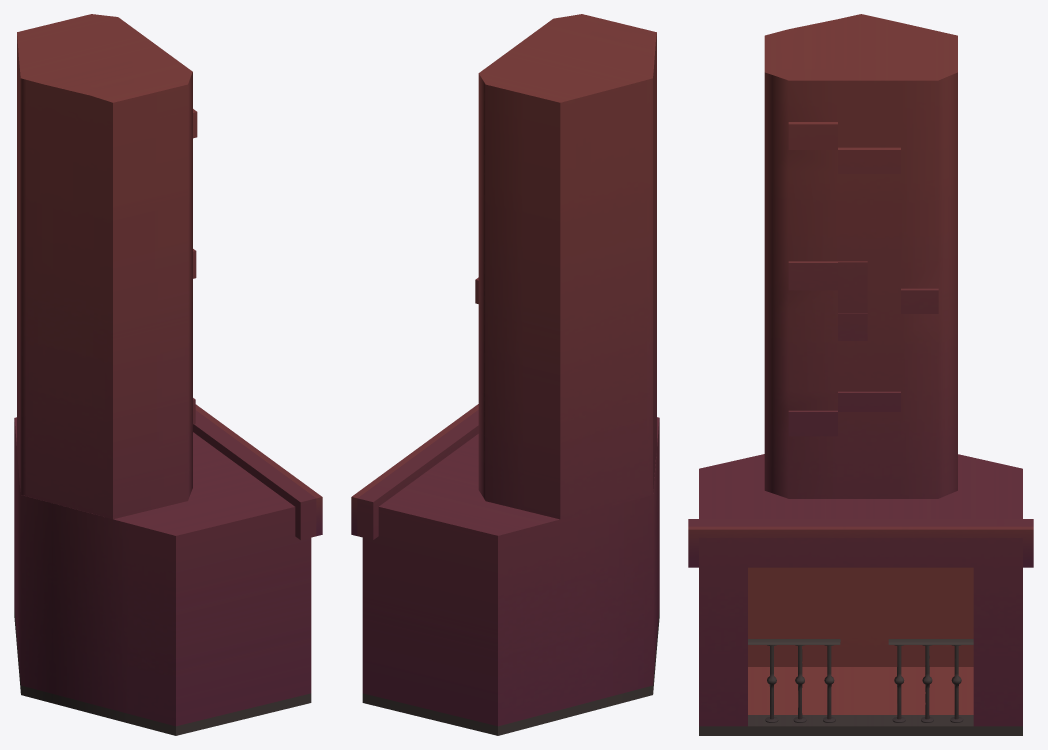
File: fireplace 1.fbx
3 renders of one model, left to right at view 1: azimuth 30°, elevation 25°; view 2: azimuth 150°, elevation 25°; view 3: azimuth 270°, elevation 25°, orthographic.
Visible parts, largest first — view 1: fireplace1; view 2: fireplace1; view 3: fireplace1.
Boxes of the visible parts, x1=… form: fireplace1: x1=14, y1=14, x2=322, y2=735; fireplace1: x1=351, y1=14, x2=659, y2=735; fireplace1: x1=688, y1=14, x2=1033, y2=735.
Size of the model in its own units: 3.92 by 10.74 by 5.42.
